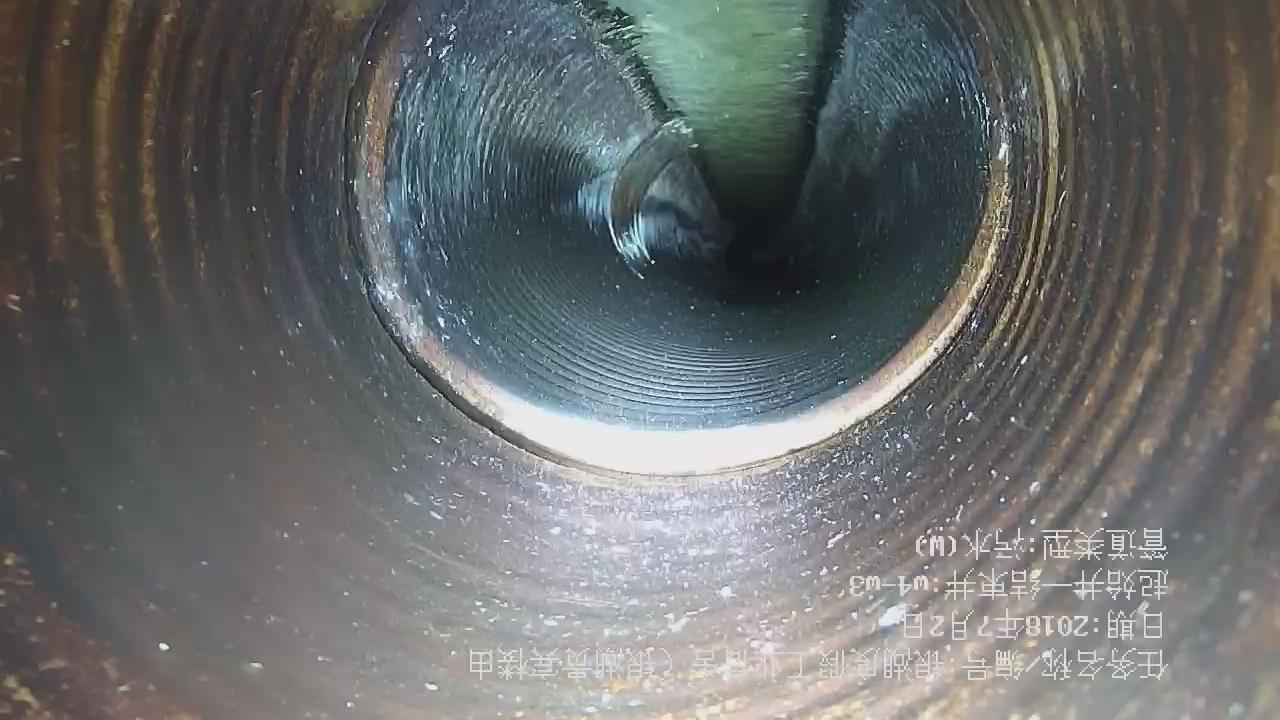CKTJ: (329, 2, 1025, 483)
